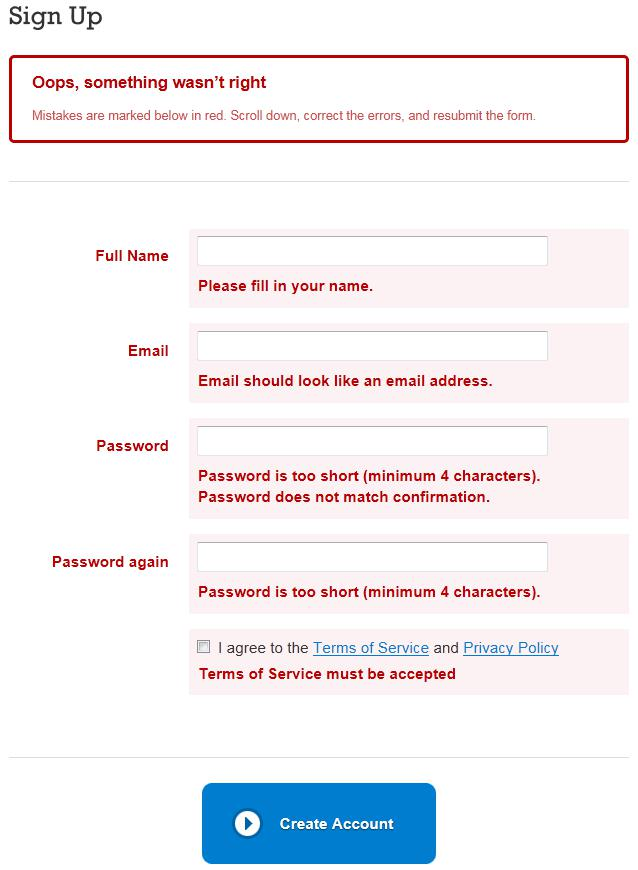error_message: (198, 468, 542, 504), (32, 106, 540, 125), (196, 585, 542, 603), (25, 70, 276, 92), (197, 371, 493, 388), (197, 666, 464, 681), (197, 277, 376, 295), (49, 555, 169, 570), (93, 245, 172, 266), (96, 437, 168, 452), (127, 342, 169, 360)
